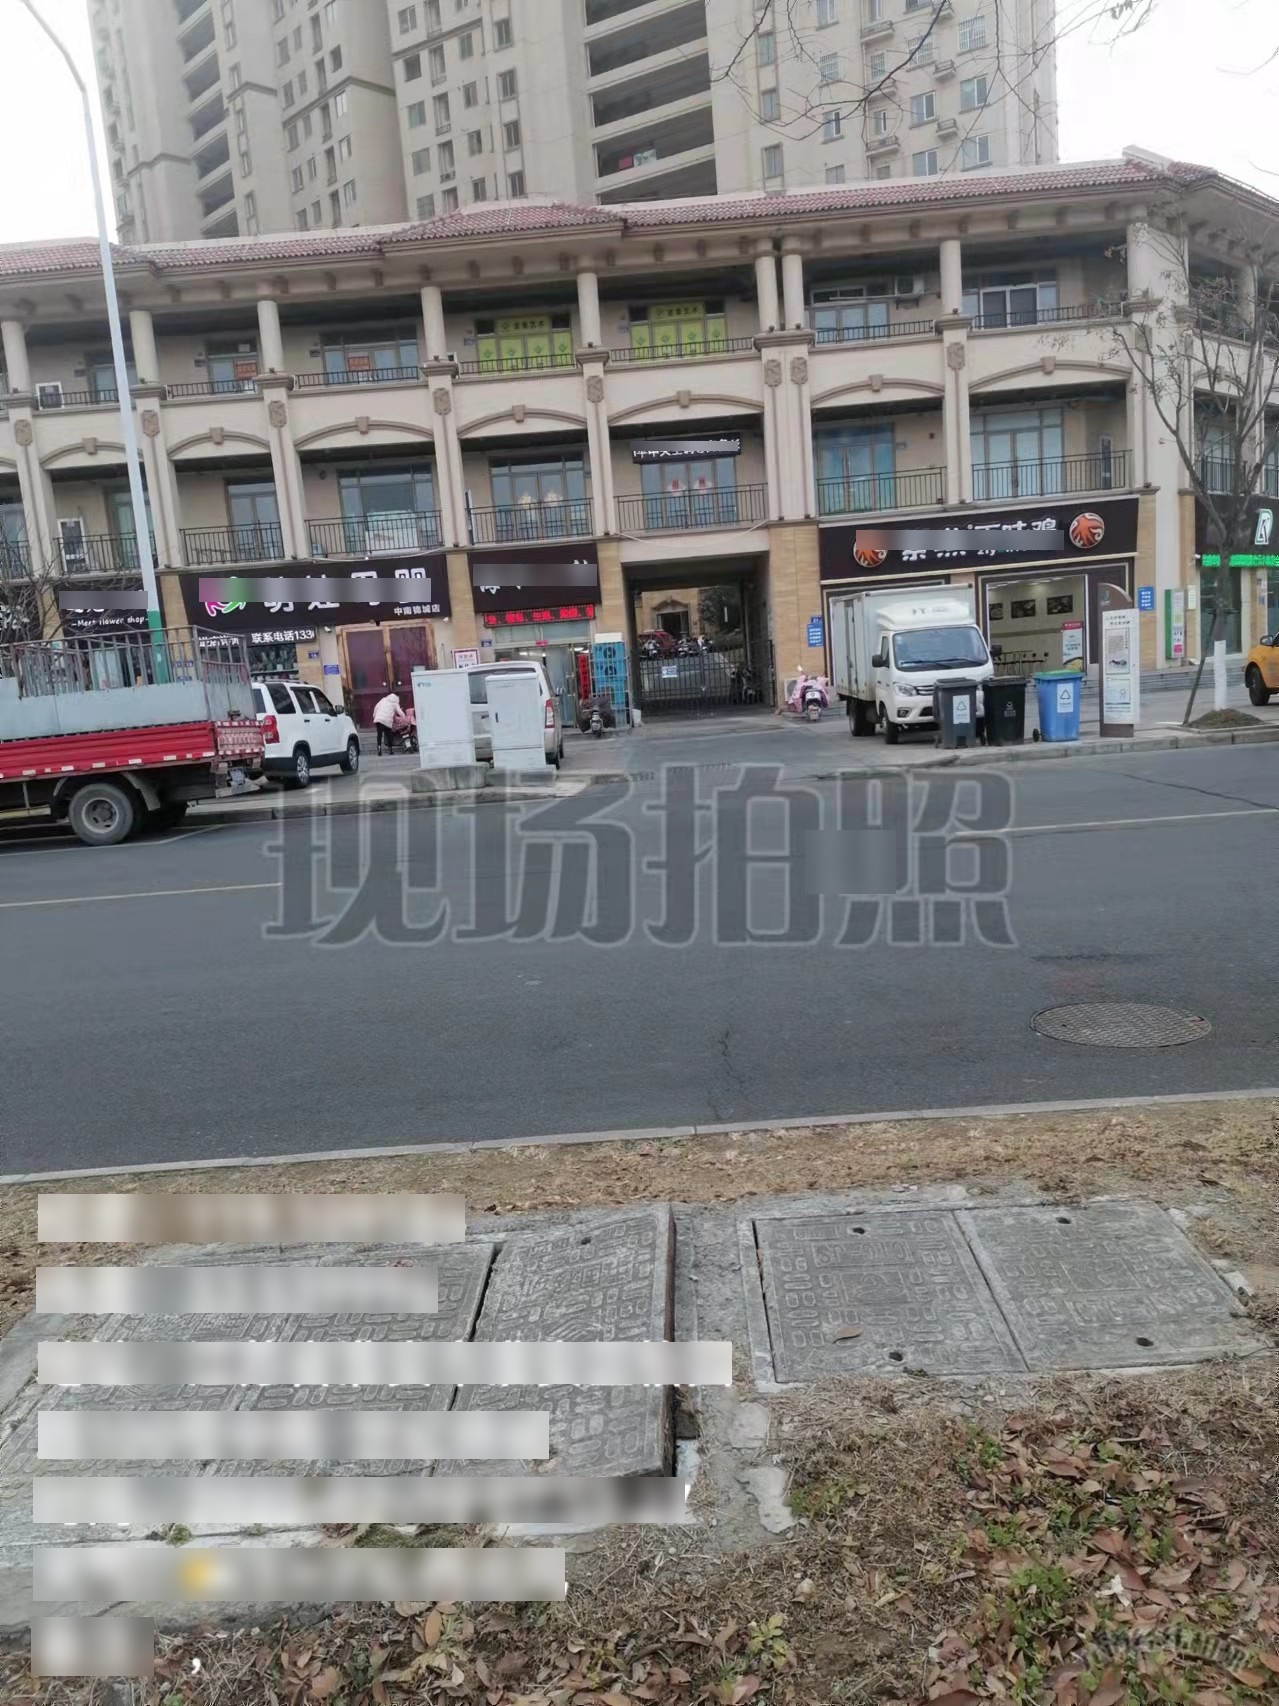good: (738, 1183, 1276, 1410)
uncovered: (11, 1210, 691, 1566)
